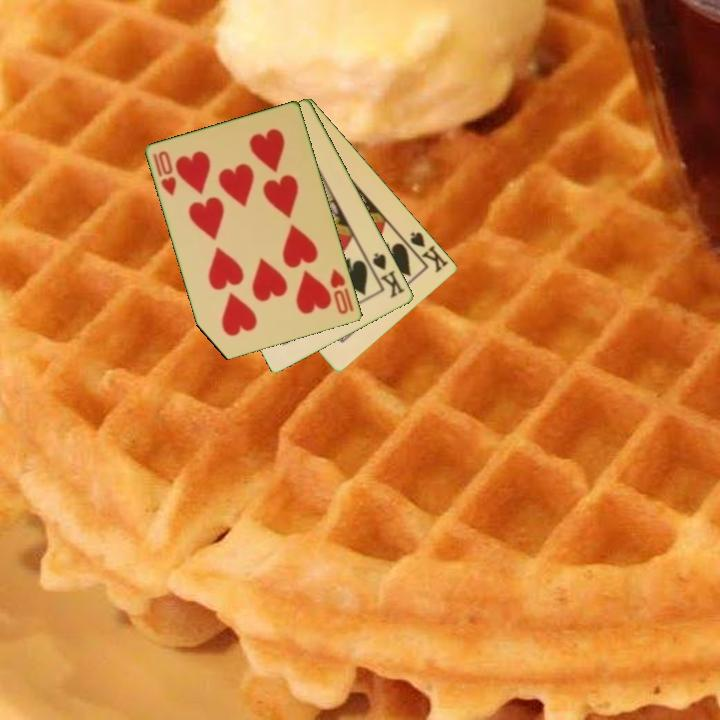10h: (327, 265, 357, 317), (150, 147, 180, 199)
Ks: (364, 249, 408, 301), (407, 228, 451, 276)
